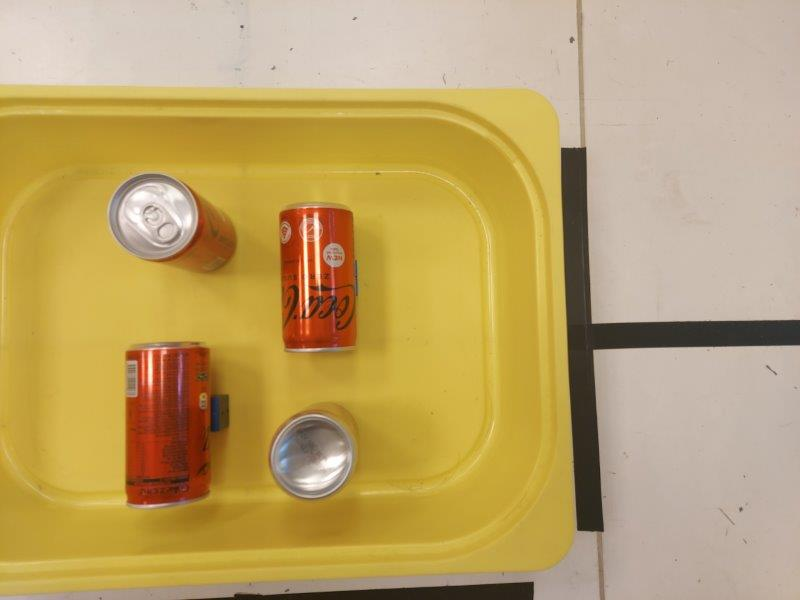Coke: (126, 341, 209, 507), (110, 173, 235, 275), (280, 201, 354, 352), (266, 403, 359, 499)
